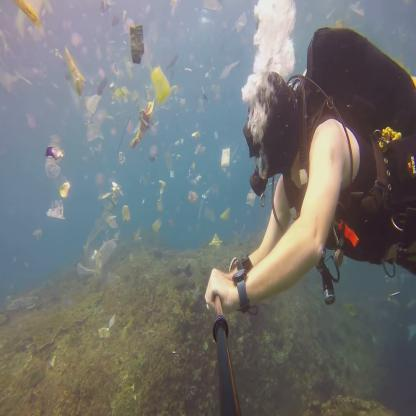Rác: (171, 74, 223, 122), (124, 100, 158, 146), (59, 46, 86, 91), (78, 247, 106, 285), (38, 144, 67, 178), (92, 233, 121, 262), (124, 30, 148, 63), (216, 55, 245, 76), (149, 65, 169, 94), (43, 198, 68, 218), (216, 144, 235, 166), (83, 90, 107, 107), (203, 234, 224, 252), (119, 202, 135, 223), (230, 14, 247, 32), (108, 180, 122, 199), (218, 207, 236, 220), (148, 219, 166, 230), (96, 186, 112, 198), (162, 153, 172, 171), (153, 184, 170, 194), (190, 144, 203, 155), (188, 193, 199, 203), (187, 132, 198, 134)
